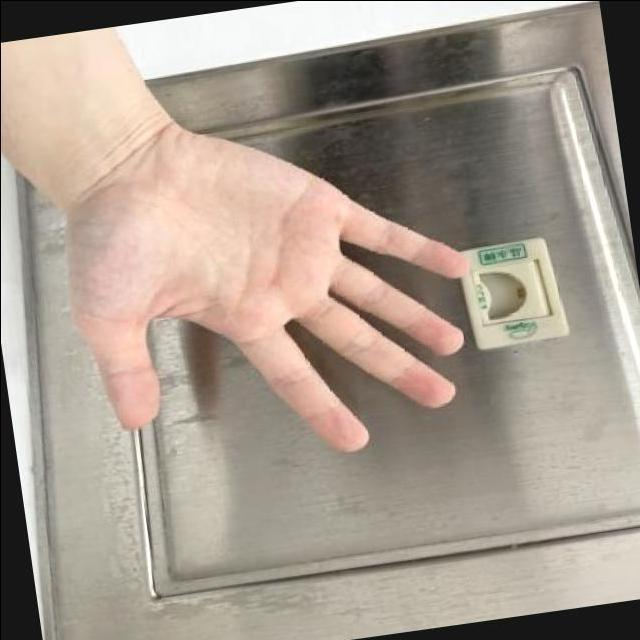Hand: (52, 120, 464, 455)
